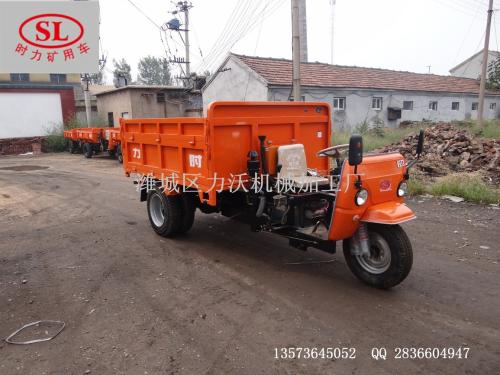tricycle: (117, 90, 420, 292)
